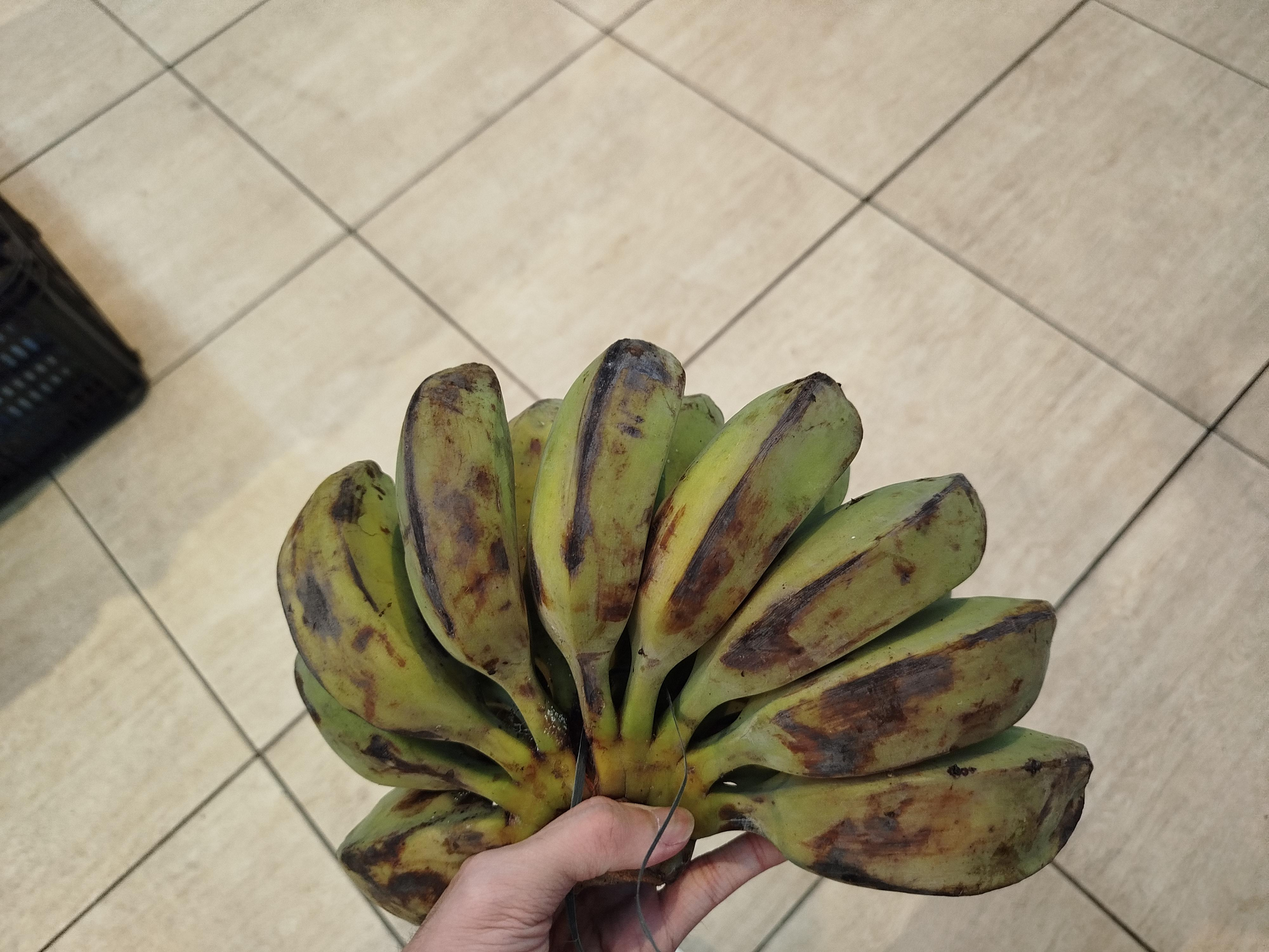underripe: (277, 339, 1091, 923)
